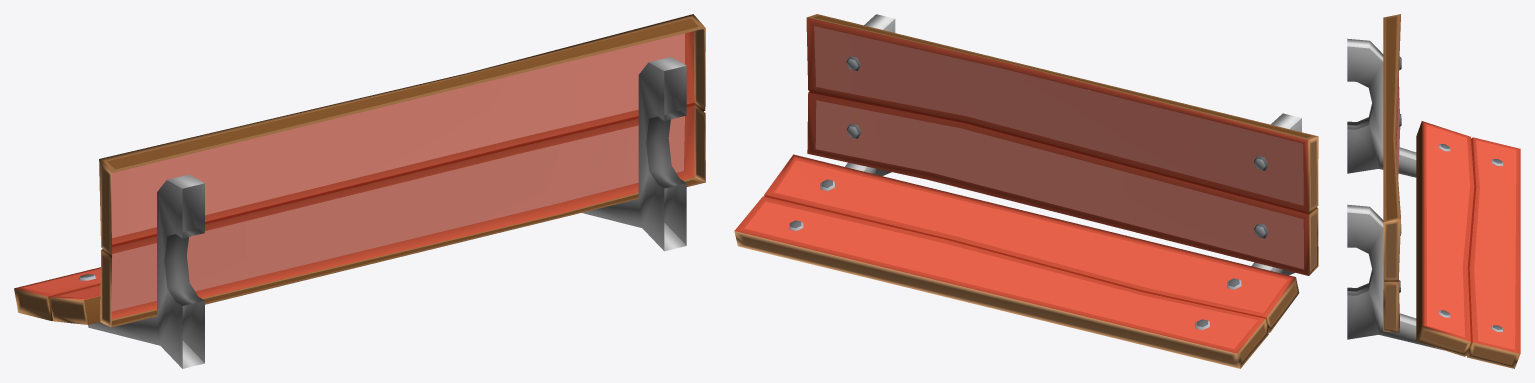
Rendered from Bench.fbx.
The picture shows the model from 3 angles, left to right: view 1: azimuth 30°, elevation 25°; view 2: azimuth 150°, elevation 25°; view 3: azimuth 270°, elevation 25°; orthographic projection. The views are drawn at different scales.
Parts seen in each view (by area): view 1: Bench; view 2: Bench; view 3: Bench.
Boxes of the visible parts, left/top/right/bottom form: Bench: left=14, top=14, right=705, bottom=368; Bench: left=734, top=14, right=1318, bottom=368; Bench: left=1347, top=14, right=1520, bottom=368.
Bounding box in the file's own units: 181 × 64.13 × 64.61.
